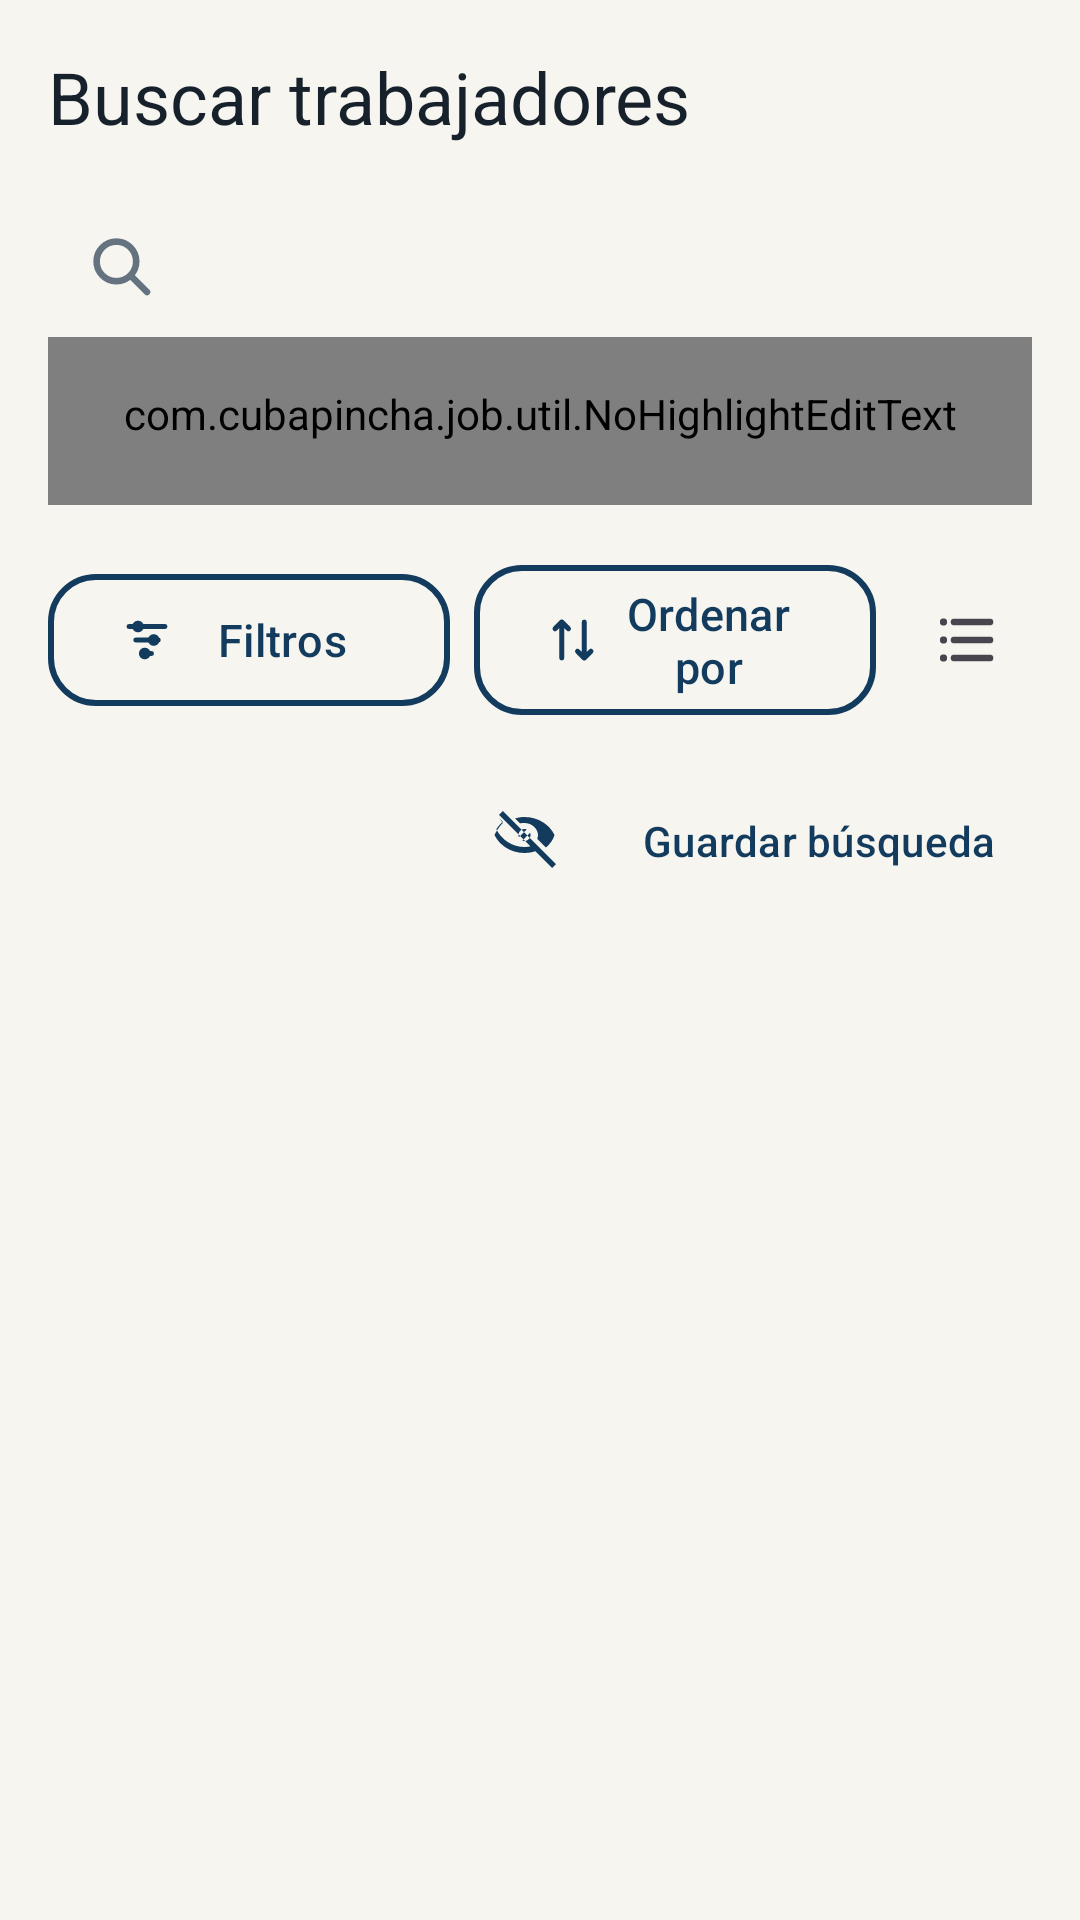

Icons on this 1080w x 1920h Android screen, each with its box as [x1=x1, y1=y1, x2=x2, y2=y2]:
Cambiar vista: [x1=940, y1=618, x2=994, y2=662]
Mostrar fotos: [x1=494, y1=811, x2=556, y2=868]
